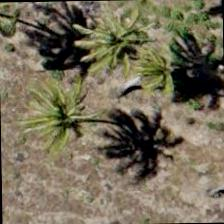Kelapa_Sawit: (121, 27, 214, 119), (10, 75, 102, 167), (73, 0, 165, 83)
